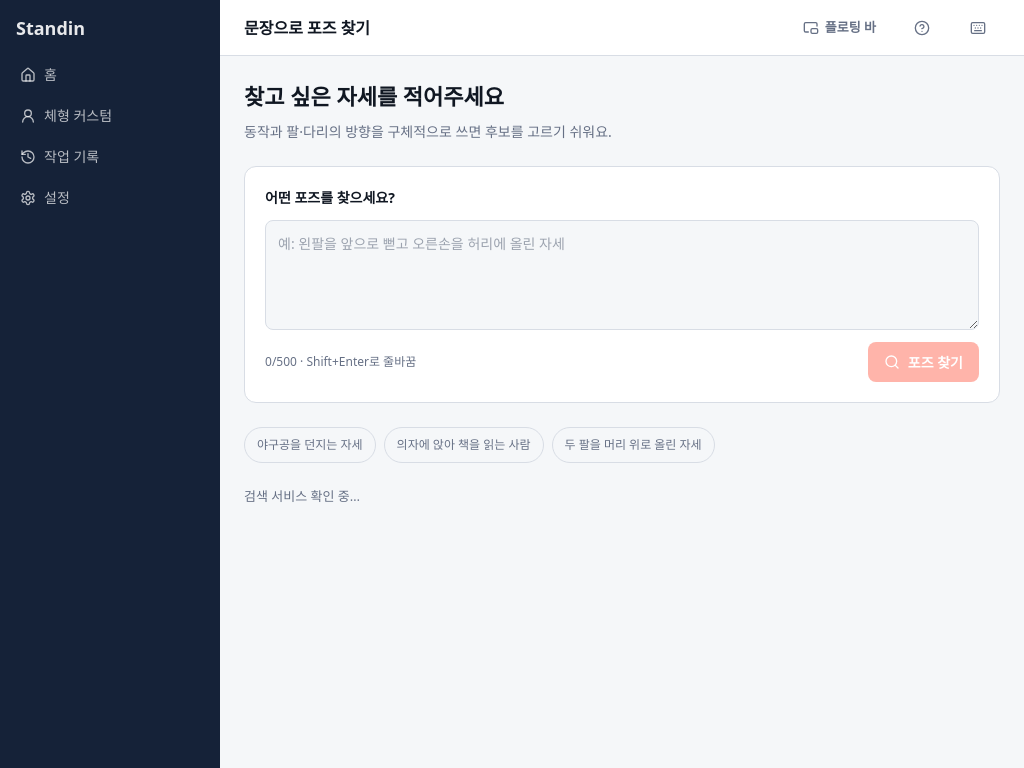
Scenario: IME composition does not submit; Enter after composition submits
Type "던지는 자세" into the text box.
click(622, 275); type("던지는 자세")  # box [265,220,979,330]
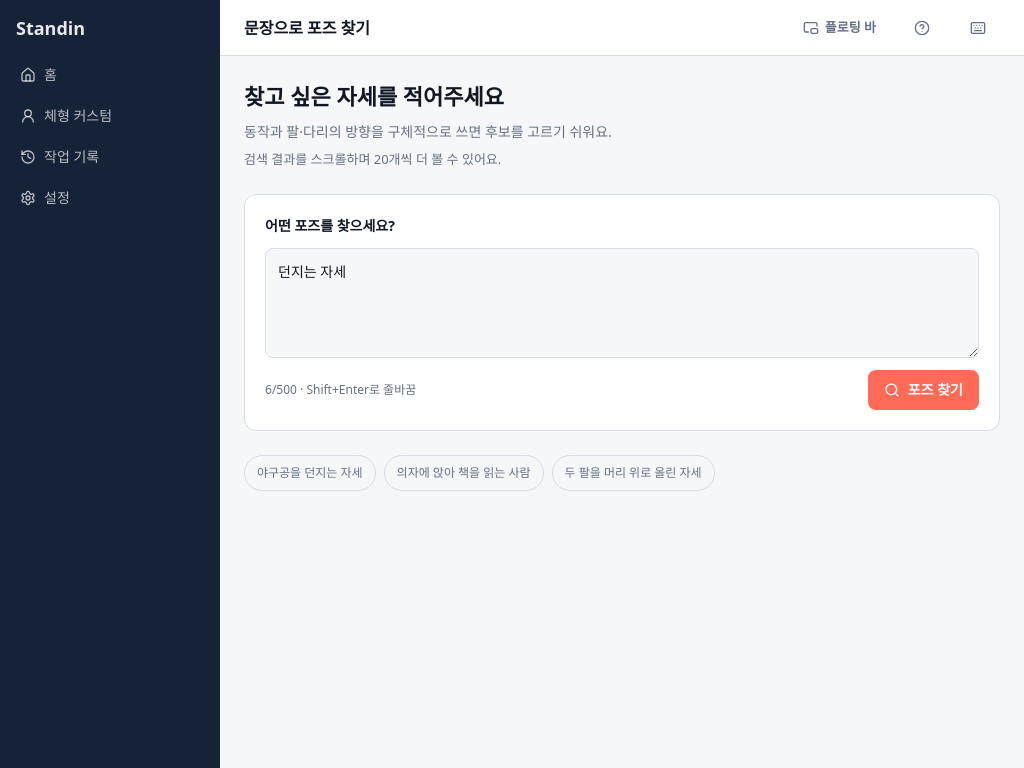
Check: the button "포즈 찾기" is enabled, box [868,370,979,410]
Press Enter in the text box, box [265,248,979,358]
Press Enter in the text box, box [265,248,979,358]
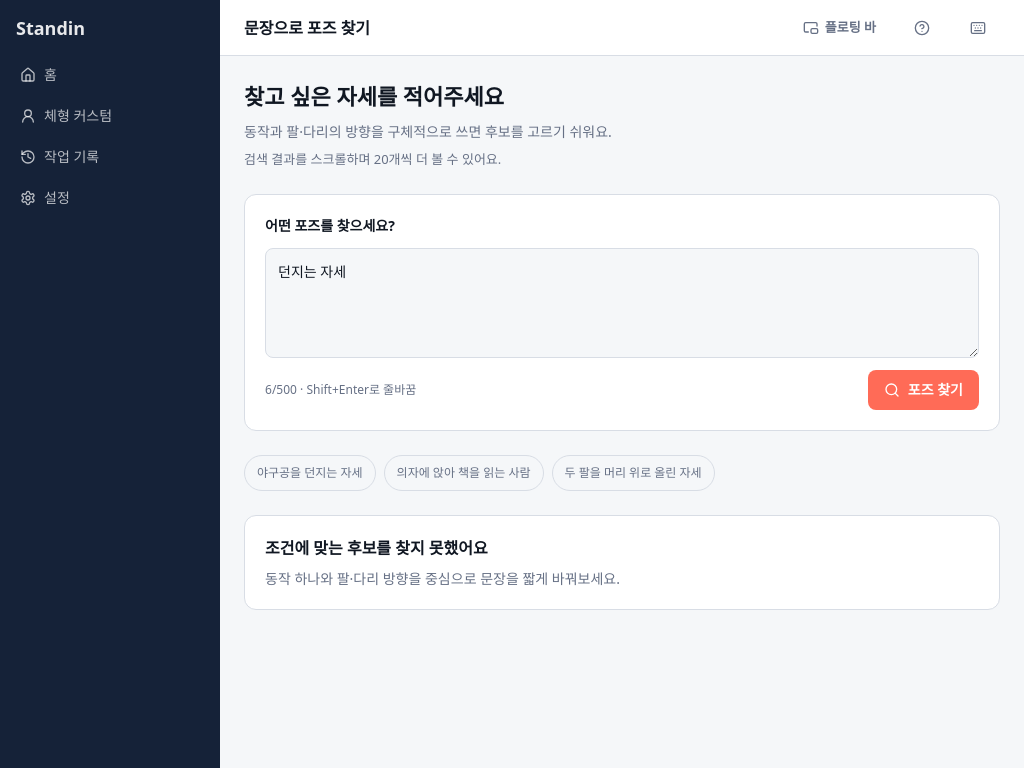
Check: the heading "조건에 맞는 후보를 찾지 못했어요" is shown, box [265,536,488,558]
